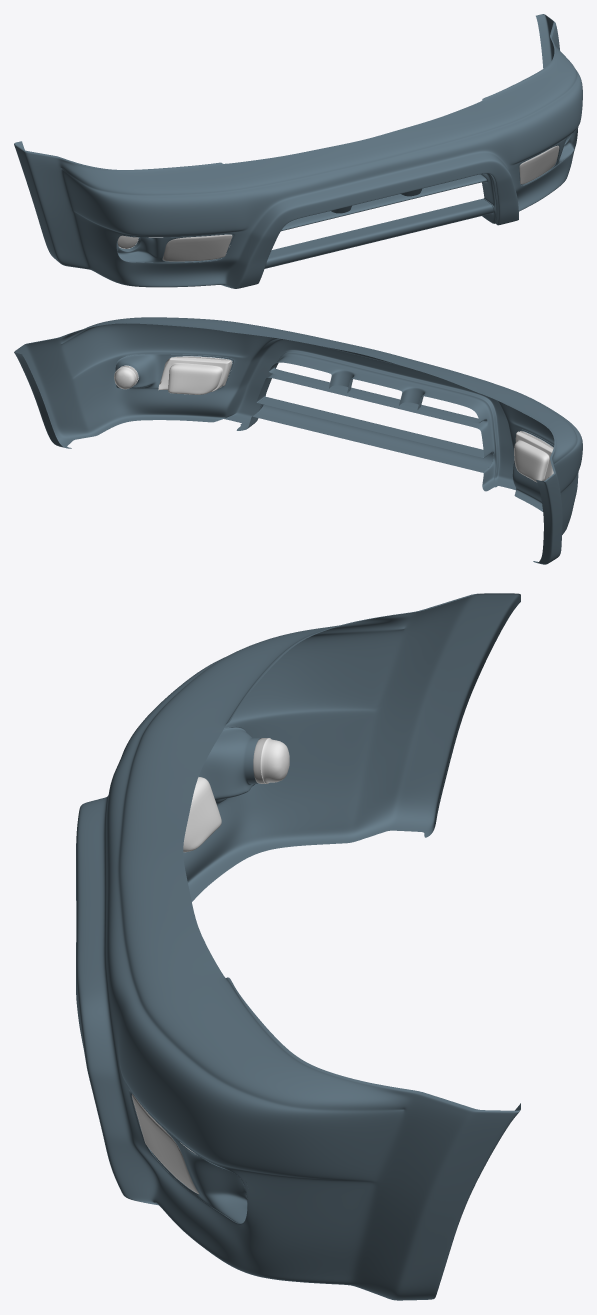
File: stock_bumper.glb
The picture shows the model from 3 angles, top to bottom: view 1: azimuth 30°, elevation 25°; view 2: azimuth 150°, elevation 25°; view 3: azimuth 270°, elevation 25°; orthographic projection. The views are drawn at different scales.
Visible parts, largest first — view 1: Plane.053, Plane.052; view 2: Plane.053, Plane.050, Plane.066; view 3: Plane.053, Plane.052, Plane.050, Plane.066.
Boxes of the visible parts, left/top/right/bottom form: Plane.053: left=14, top=14, right=582, bottom=288; Plane.052: left=162, top=145, right=559, bottom=261; Plane.053: left=14, top=317, right=582, bottom=564; Plane.050: left=158, top=357, right=553, bottom=482; Plane.066: left=114, top=367, right=552, bottom=477; Plane.053: left=76, top=593, right=520, bottom=1300; Plane.052: left=132, top=1094, right=198, bottom=1194; Plane.050: left=183, top=777, right=221, bottom=1153; Plane.066: left=260, top=738, right=289, bottom=783.
Bounding box in the file's own units: 1.76 × 0.3359 × 0.637.
